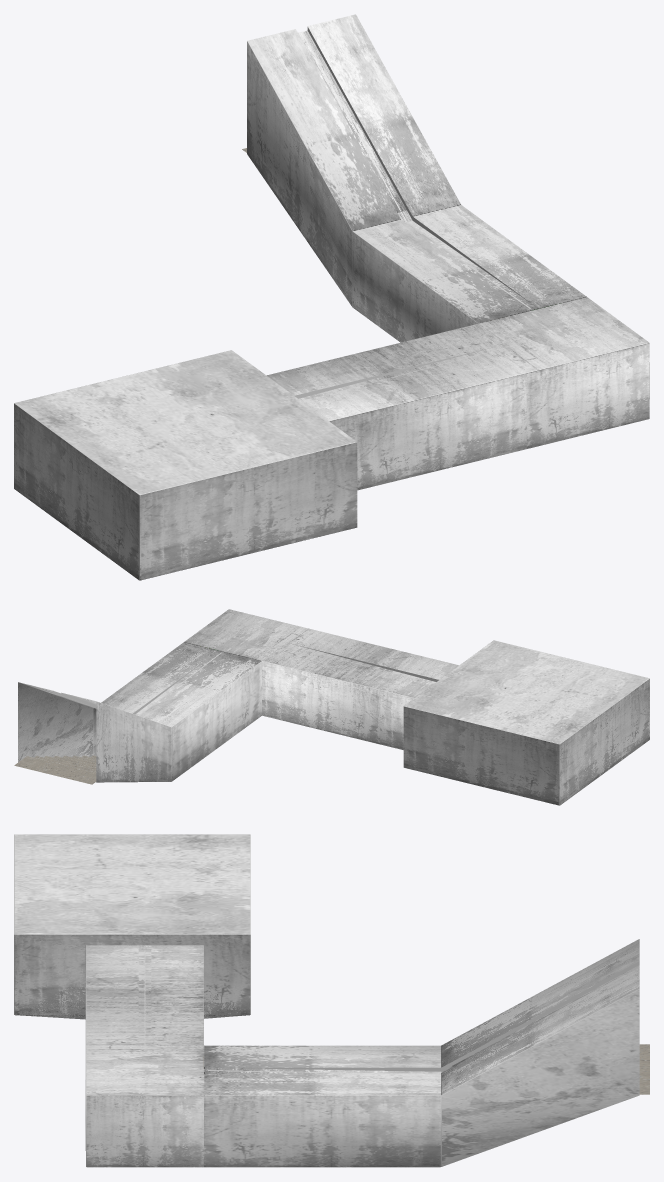
The model's file is Locker_bigdoor_v2.fbx.
3 renders of one model, top to bottom at view 1: azimuth 30°, elevation 25°; view 2: azimuth 150°, elevation 25°; view 3: azimuth 270°, elevation 25°, orthographic. The views are drawn at different scales.
Parts seen in each view (by area): view 1: Cube; view 2: Cube; view 3: Cube.
Boxes of the visible parts, x1,y1,x2,y2 form: Cube: [14, 14, 649, 580]; Cube: [14, 609, 649, 805]; Cube: [14, 834, 649, 1167].
Size of the model in its own units: 1510 by 517 by 1610.
